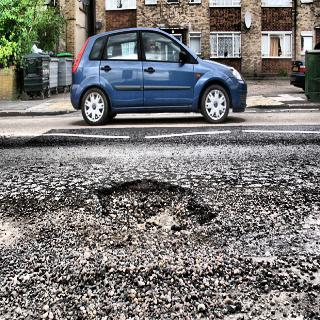pothole: (72, 163, 220, 248)
